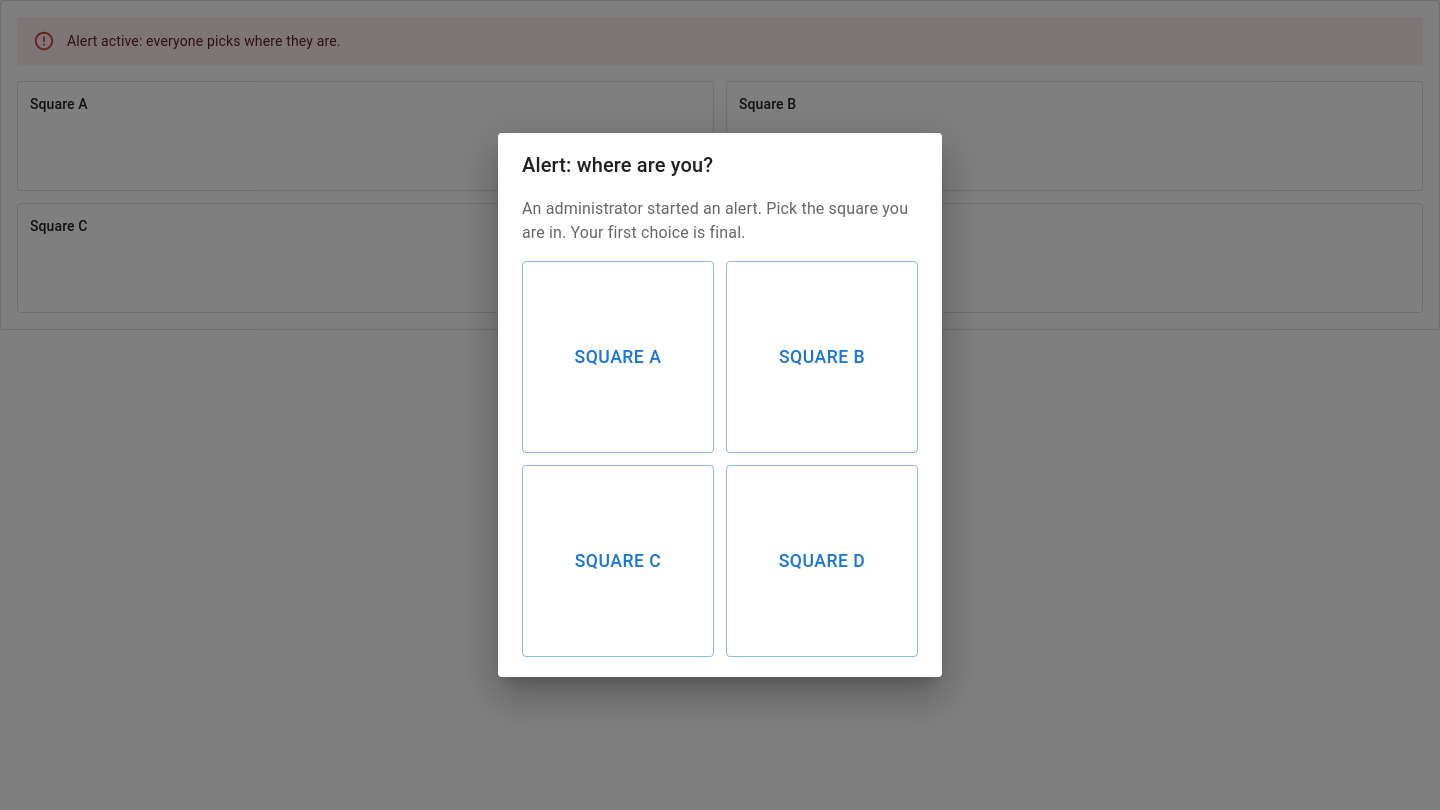
it: AlertSection › closes the modal when a pick is refused because the alert already ended
The width and height of the screenshot is (1440, 810).
Expected: the dialog is shown, [498,133,942,677]
Click the button "Square A". click: (618, 357)
box: [522,261,714,453]
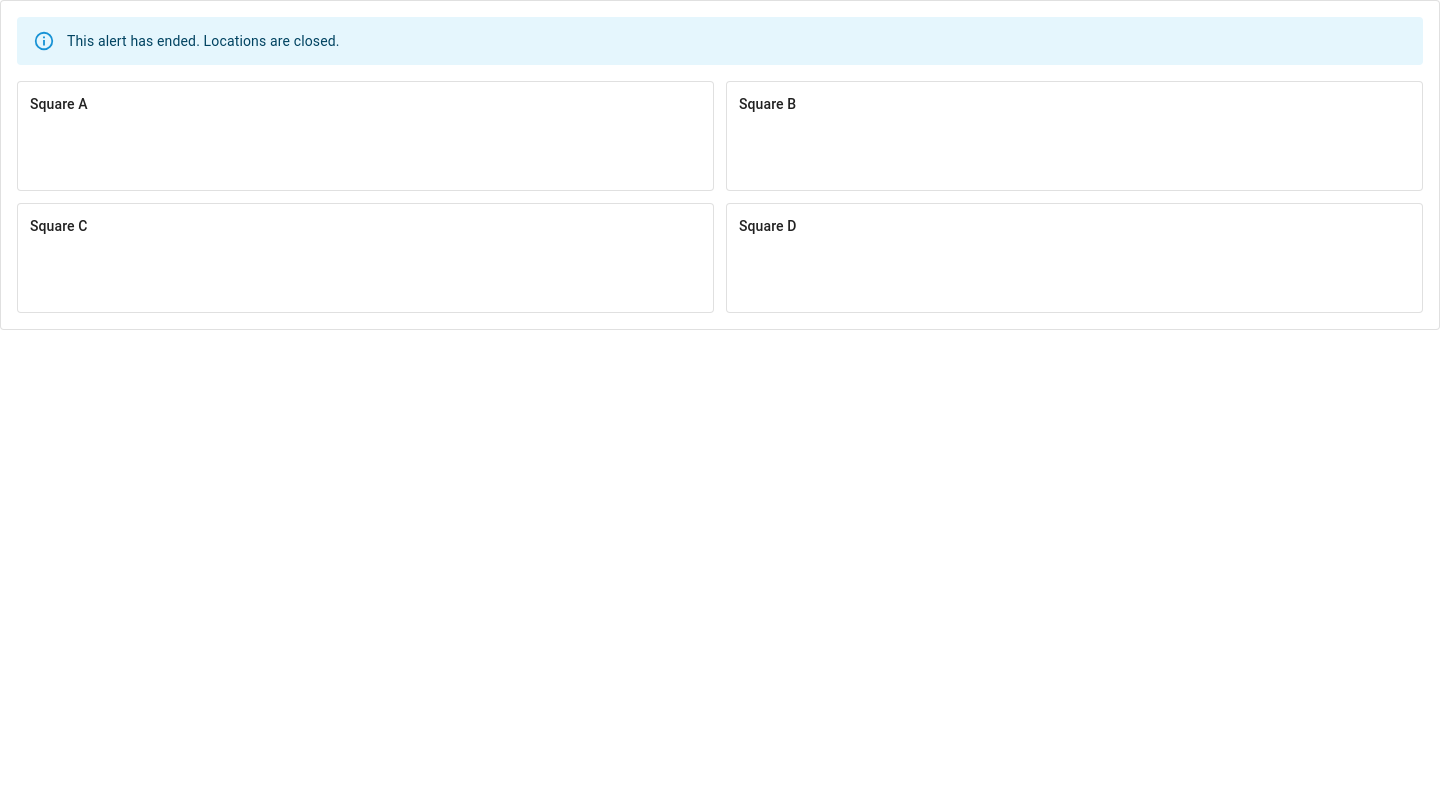
Now the dialog is gone
Now the text "This alert has ended. Locations are closed." is shown, box [67,33,340,49]
